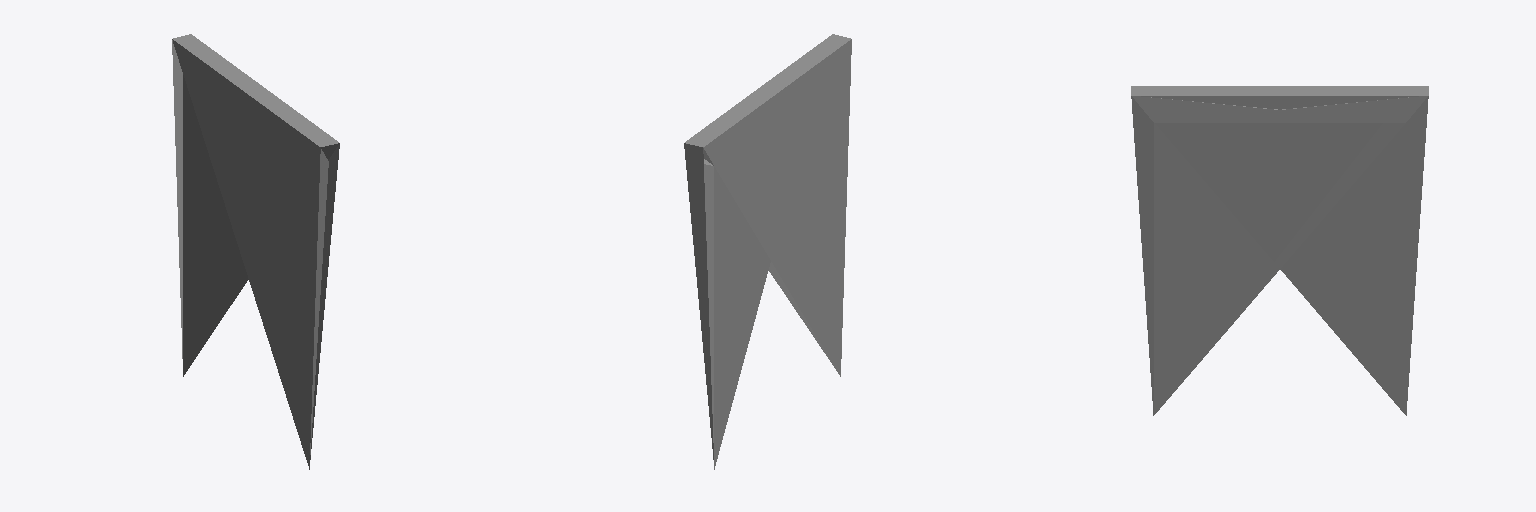
File: chair.obj
3 renders of one model, left to right at view 1: azimuth 30°, elevation 25°; view 2: azimuth 150°, elevation 25°; view 3: azimuth 270°, elevation 25°, orthographic.
Visible parts, largest first — view 1: 实体27; view 2: 实体27; view 3: 实体27.
Part boxes in pixels (x1,y1,x2,y2): 实体27: (172, 34, 339, 469); 实体27: (684, 34, 851, 469); 实体27: (1131, 86, 1428, 415).
Size of the model in its own units: 3 by 49 by 40.